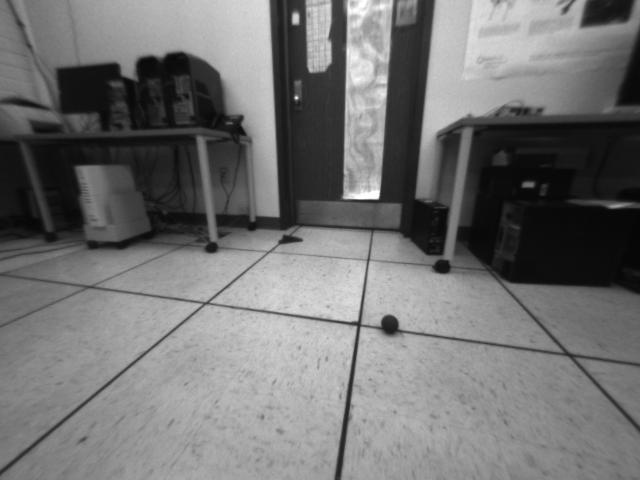dogtoy: (376, 306, 407, 342)
